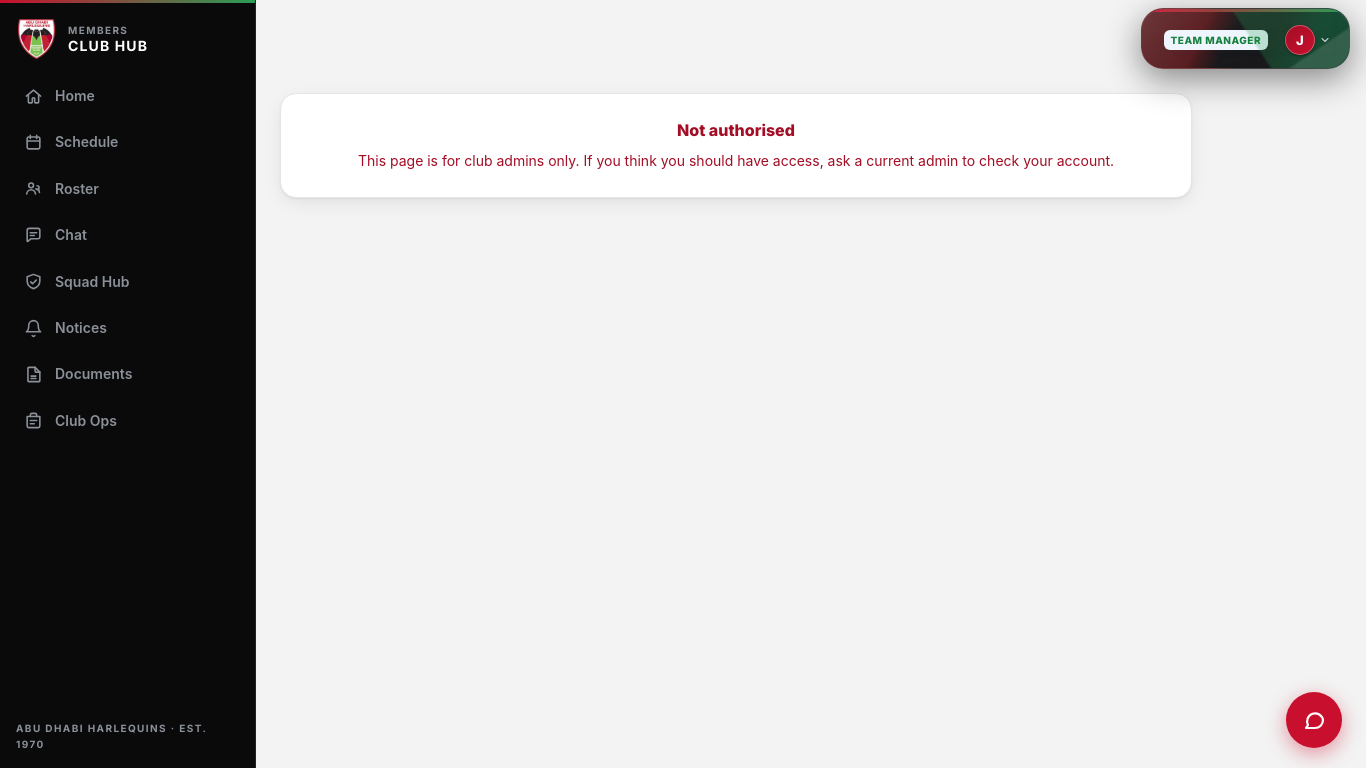
Test case: View as, reached through the account menu › is offered to an active team manager the same way
The image size is (1366, 768).
Click the button with test id "account-button": (1310, 40) [1282,22,1337,58]
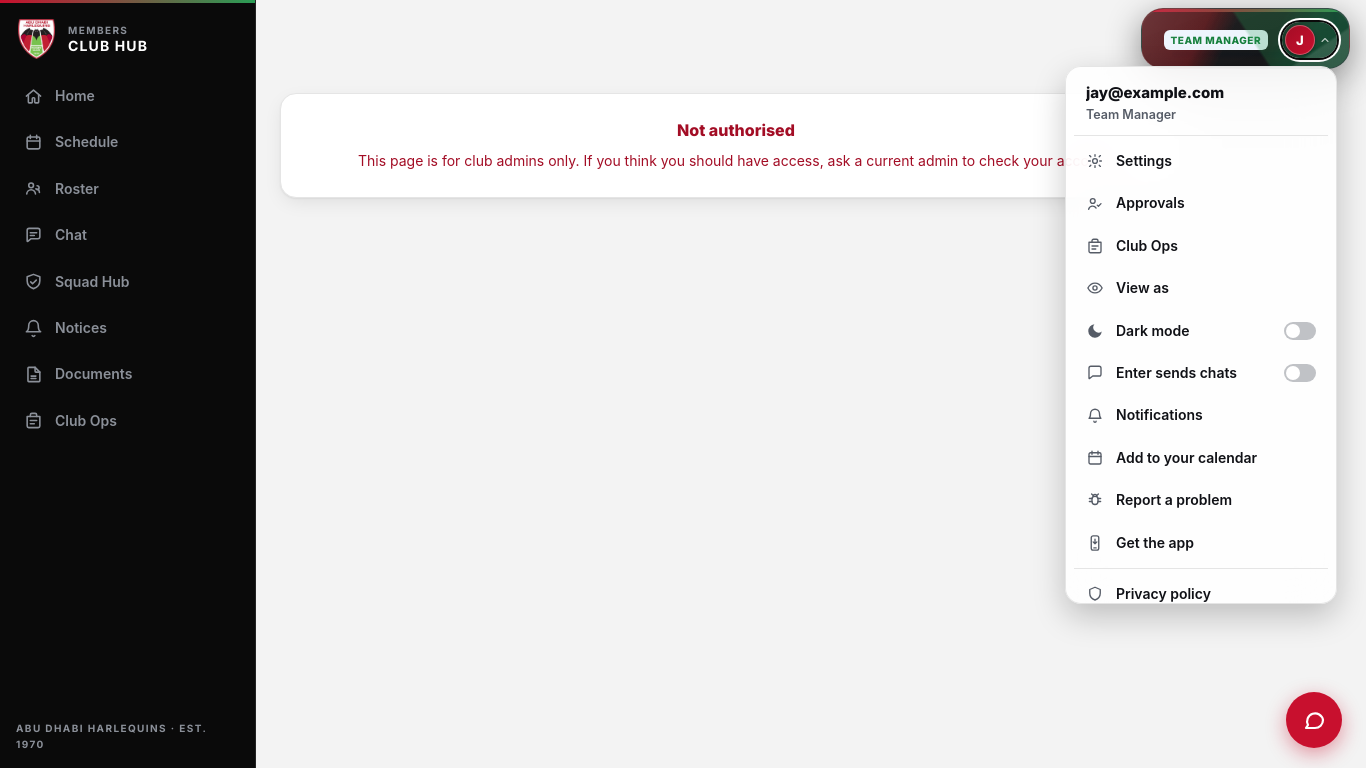
Click the menu item with test id "view-as-trigger": (1201, 288) [1074,267,1328,310]
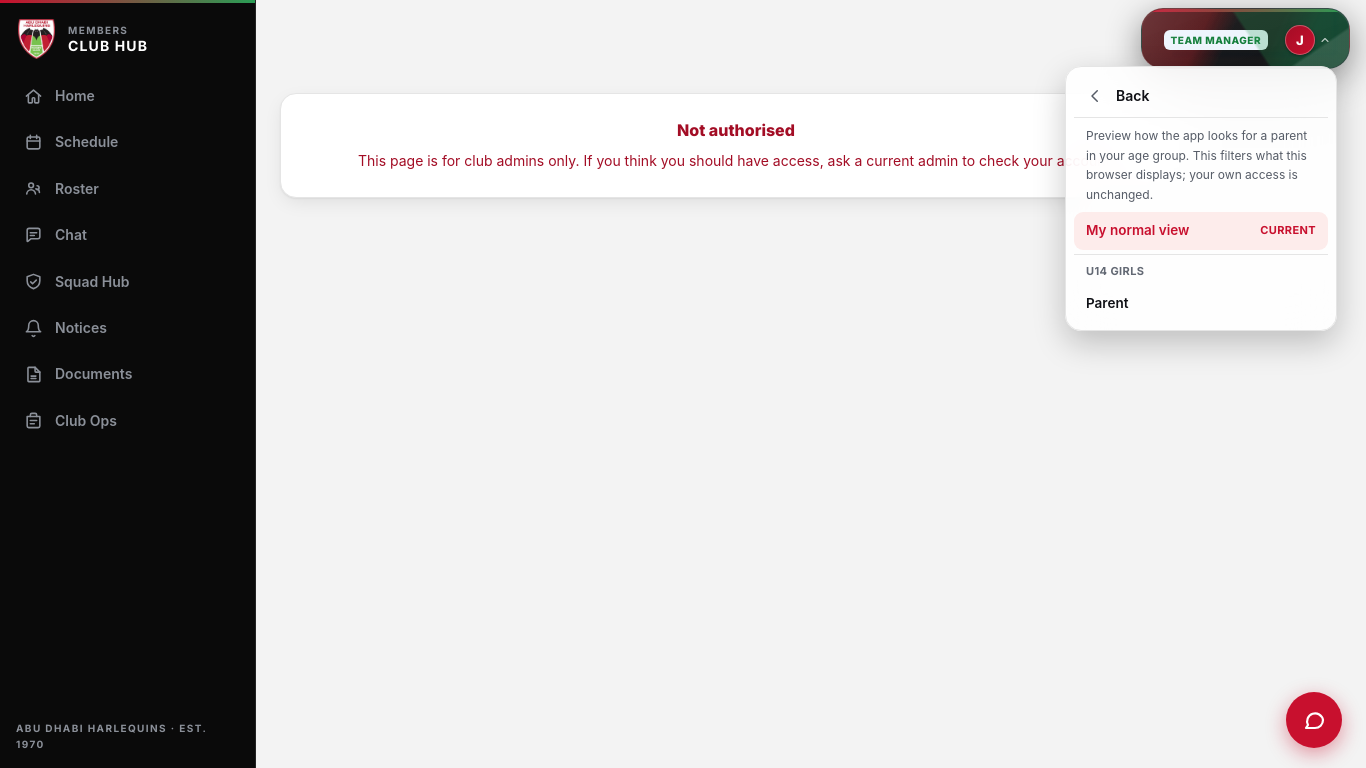
Expected: the menu item with aria-label "Parent in U14 Girls" is shown, [1074,285,1328,322]
